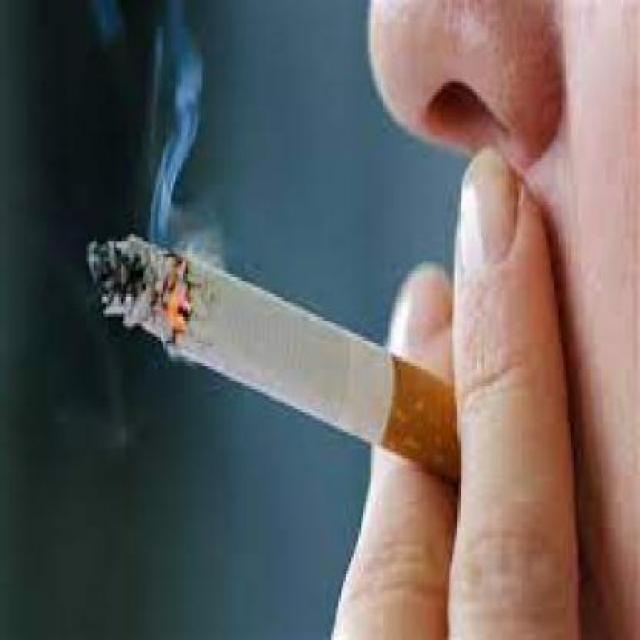cigarette: (85, 228, 460, 482)
